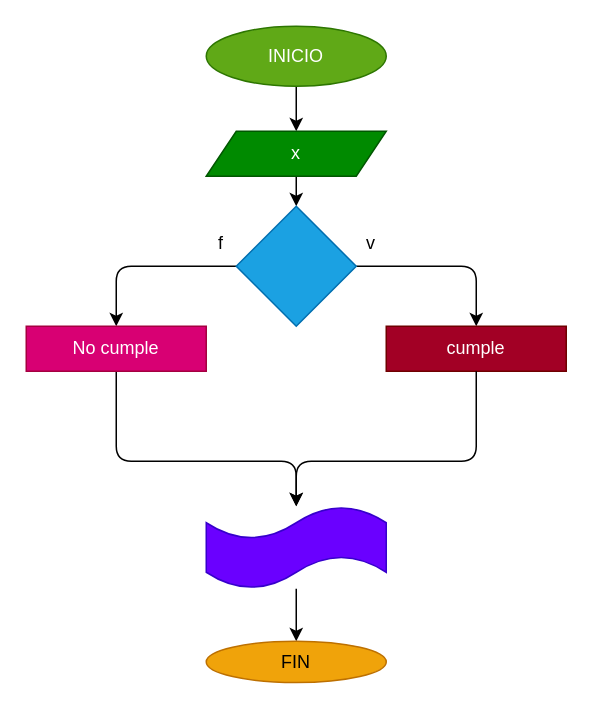
Image size: 593x710. Some labels were removed from this diagram. The shapes that lost their labels are listed below. From the top down, each one's box as (x1, y1, x2, y2) in pixels, then its label:
(235, 205, 356, 326): x > 999
(205, 505, 386, 589): Condicion
